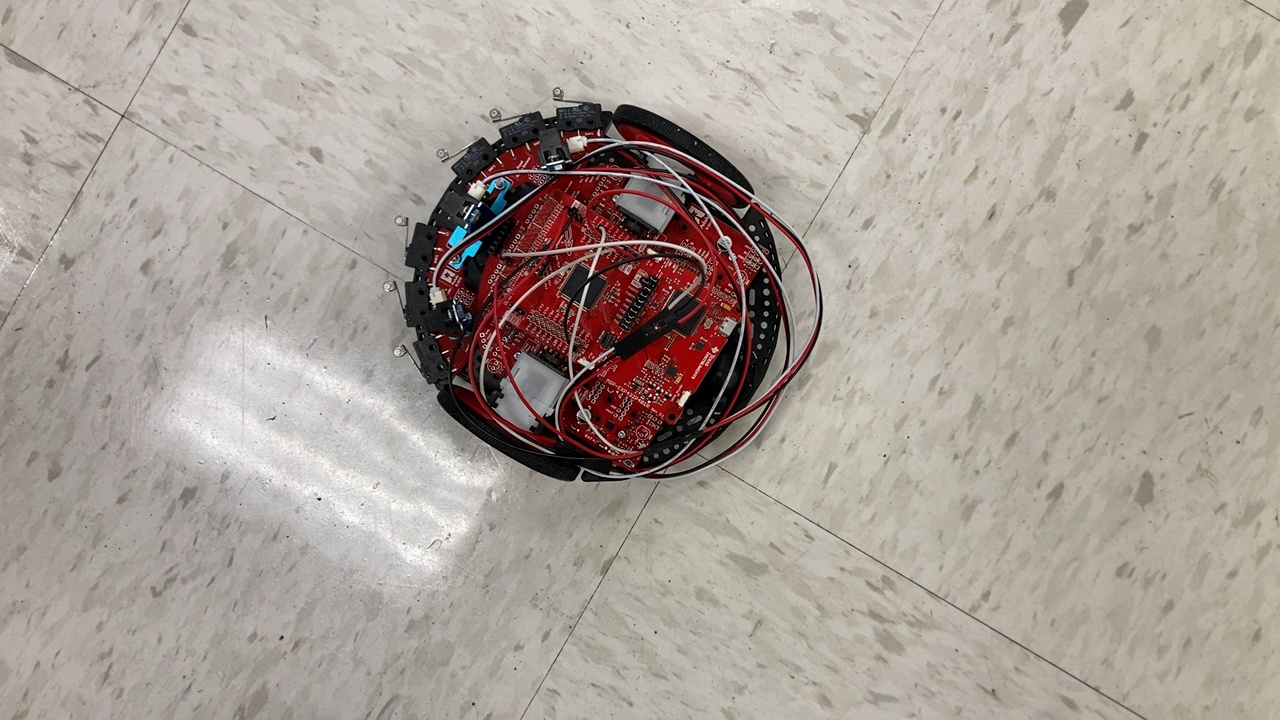robot: (378, 82, 829, 492)
